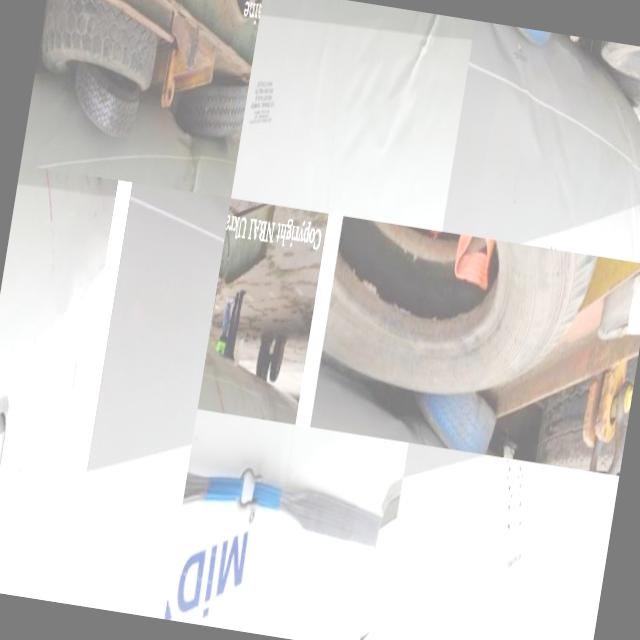dent: (464, 23, 606, 230), (337, 2, 443, 176)
